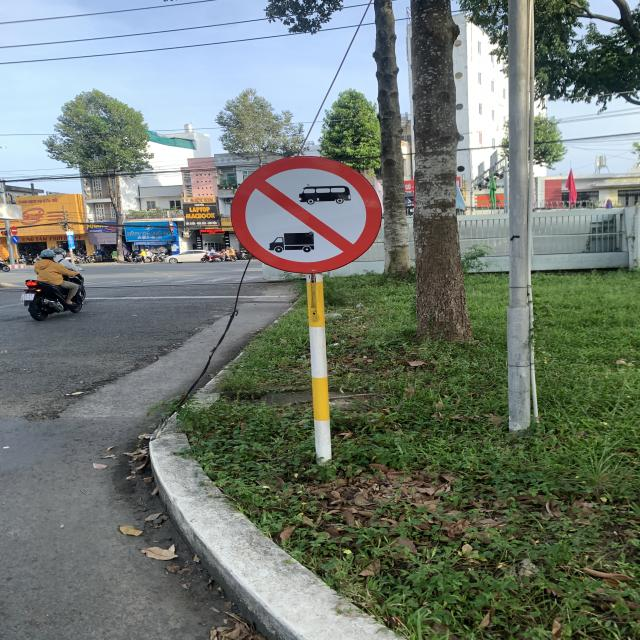Cam_XeTai_XeKhach: (234, 157, 384, 273)
